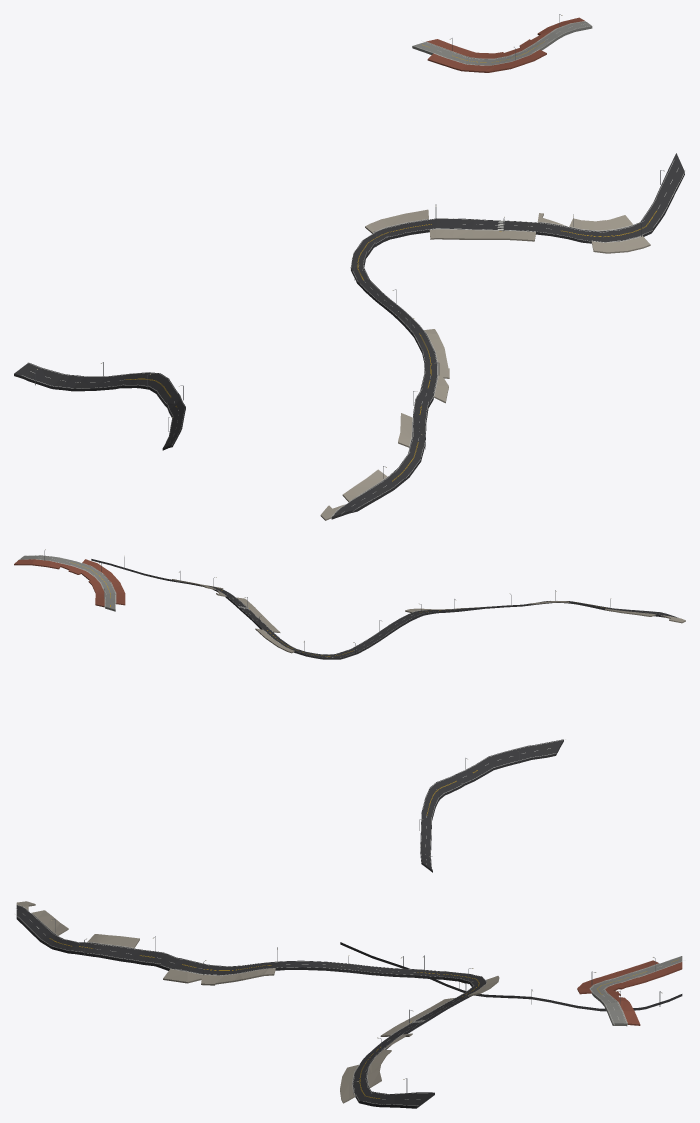
The model's file is 17-109413-59451.baf627ad.glb.
3 views of the same model, one above another, from view 1: azimuth 30°, elevation 25°; view 2: azimuth 150°, elevation 25°; view 3: azimuth 270°, elevation 25° (orthographic). The views are drawn at different scales.
Size of the model in its own units: 296 by 134 by 294.
